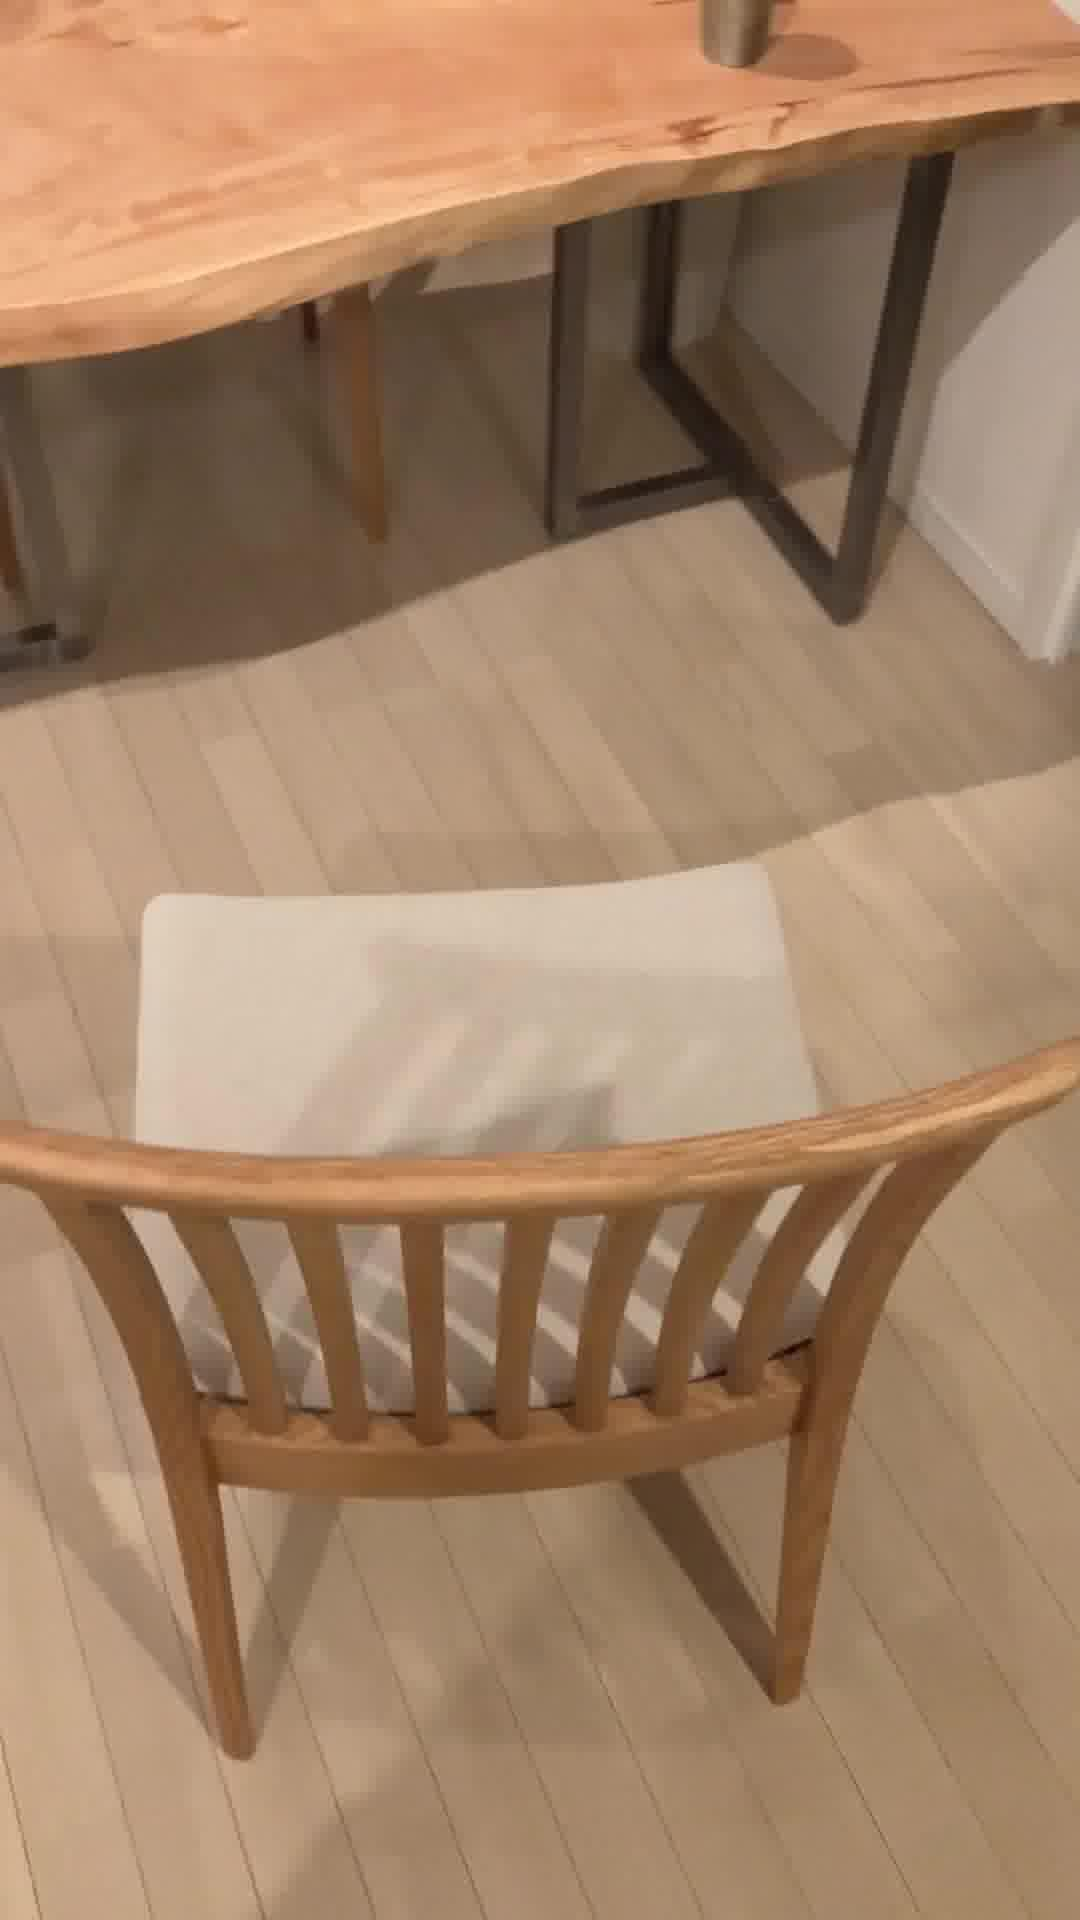takumikan-chair: (0, 855, 1080, 1764)
